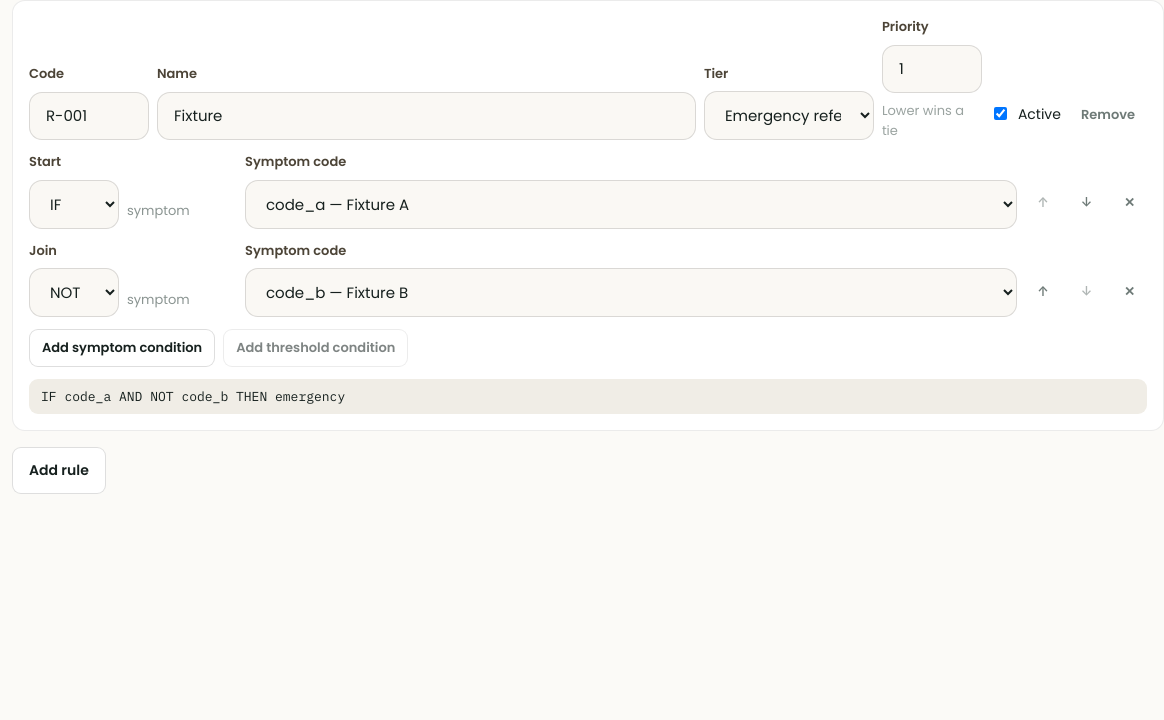
Test: RulesEditor › reorders conditions and updates the expression the engine will evaluate
The width and height of the screenshot is (1164, 720).
Check: the text named "Rule expression" reads "IF code_a AND NOT code_b THEN emergency", box [41,388,345,404]
Click the button named "Move condition down". click: (1086, 203)
box: [1069,185,1104,220]
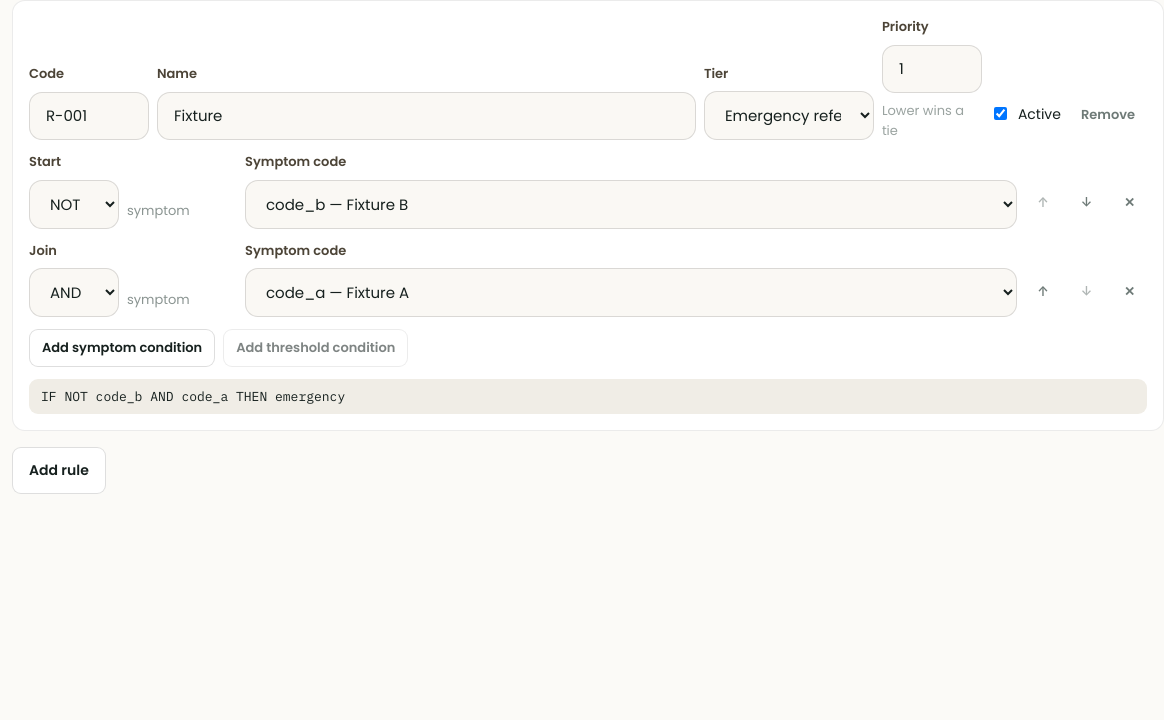
Check: the text named "Rule expression" reads "IF NOT code_b AND code_a THEN emergency", box [41,388,345,404]
